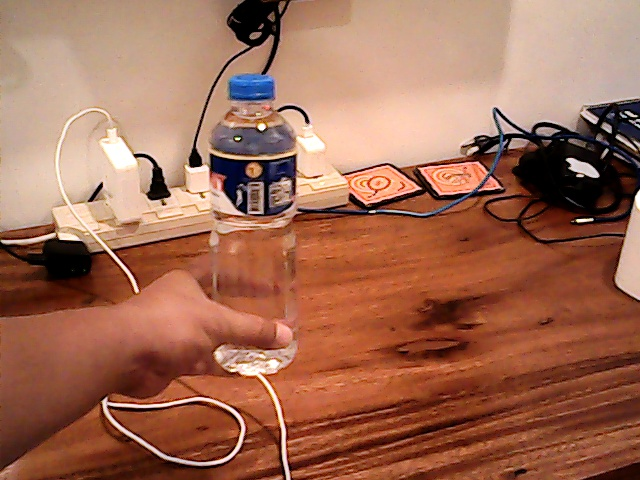Summit Water: (207, 87, 291, 369)
